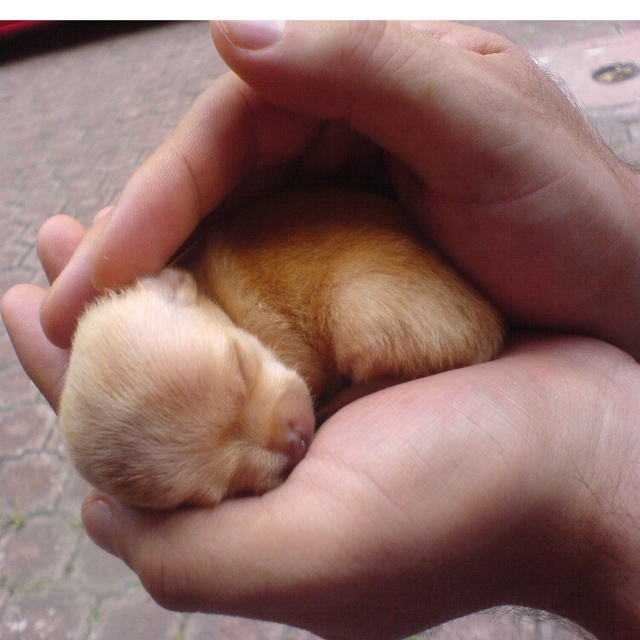Hamster: (58, 182, 506, 511)
